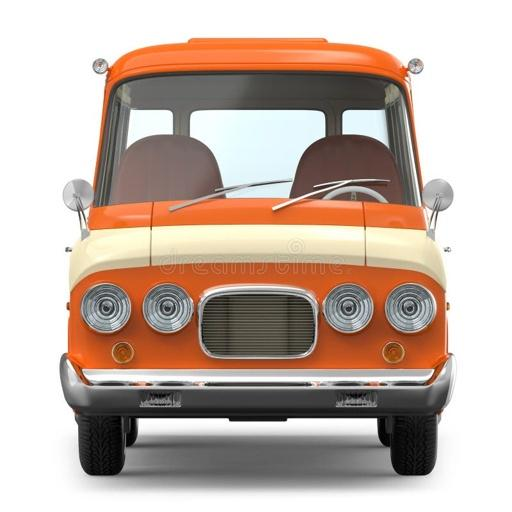van: (60, 38, 454, 473)
